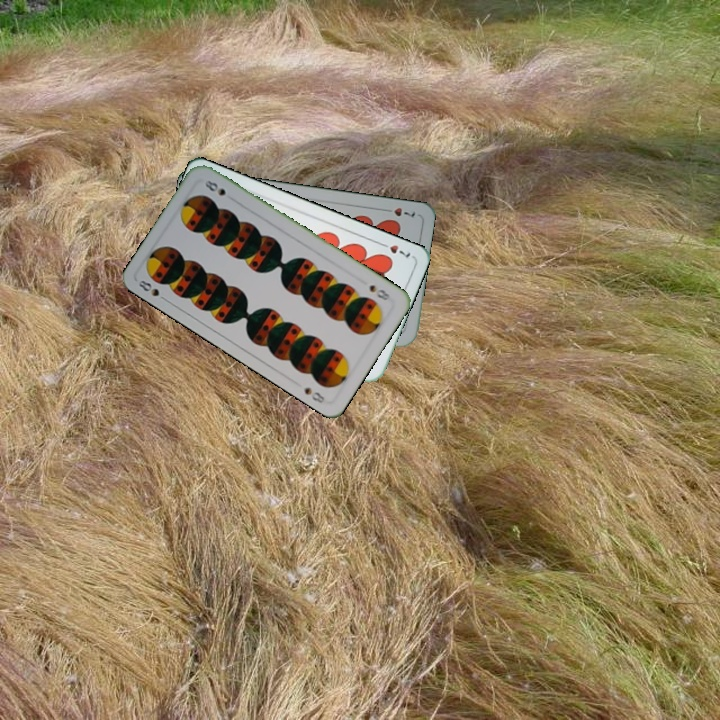H7: (375, 238, 413, 260), (379, 203, 417, 219)
S8: (134, 276, 171, 304), (365, 280, 394, 303)
